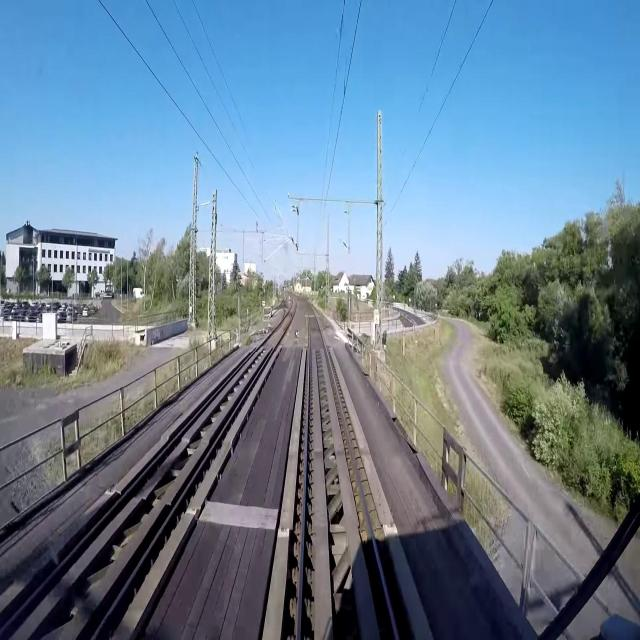rail-track: (0, 312, 289, 639), (300, 303, 394, 639), (291, 299, 295, 313)
